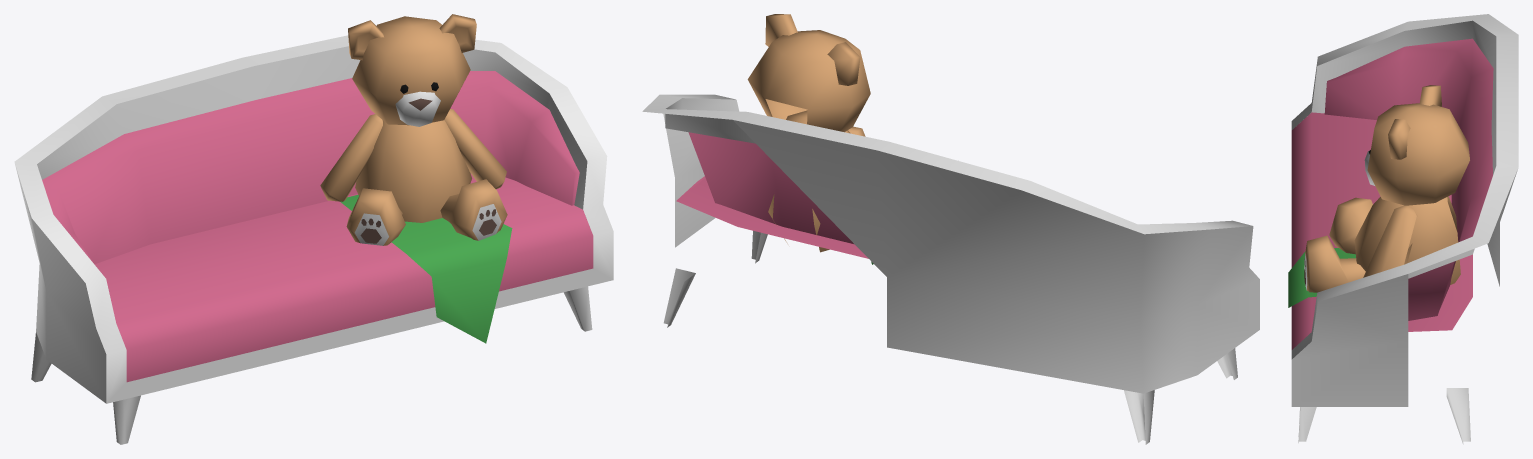
The model's file is interior_C_002.fbx.
3 views of the same model, side by side, from view 1: azimuth 30°, elevation 25°; view 2: azimuth 150°, elevation 25°; view 3: azimuth 270°, elevation 25° (orthographic). The views are drawn at different scales.
Parts seen in each view (by area): view 1: interior_C_002; view 2: interior_C_002; view 3: interior_C_002.
Boxes of the visible parts, x1=… form: interior_C_002: x1=14, y1=14, x2=613, y2=444; interior_C_002: x1=642, y1=14, x2=1259, y2=444; interior_C_002: x1=1288, y1=14, x2=1518, y2=444.
Bounding box in the file's own units: 205 × 108 × 79.17.
